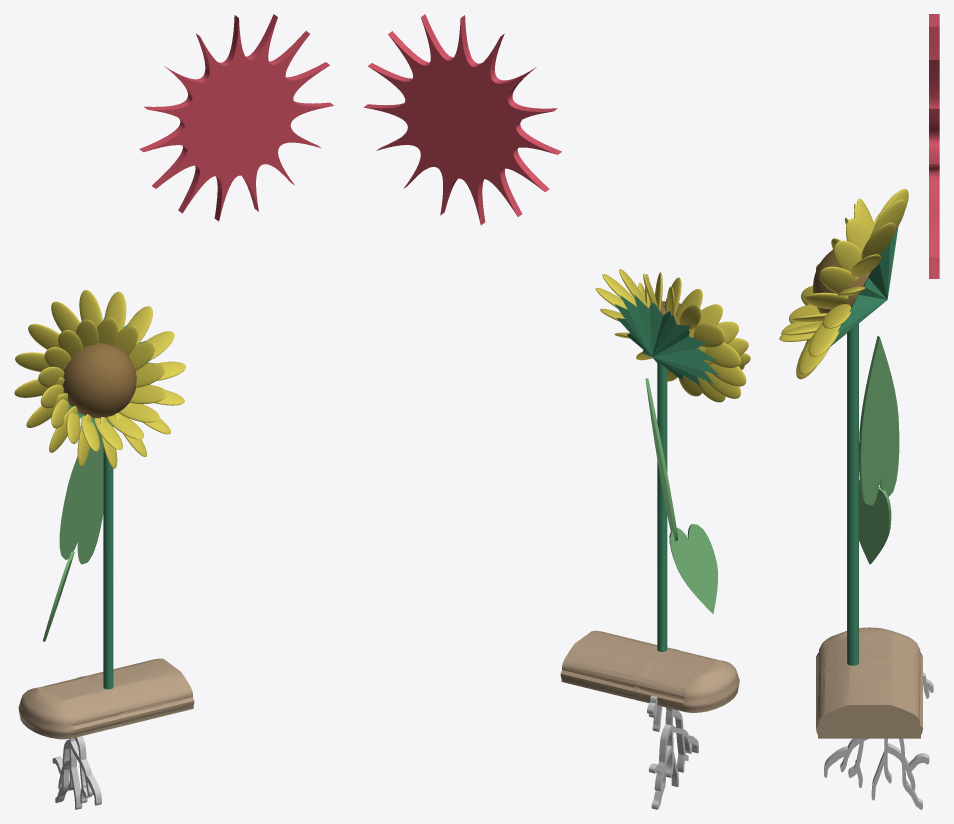
The picture shows the model from 3 angles, left to right: view 1: azimuth 30°, elevation 25°; view 2: azimuth 150°, elevation 25°; view 3: azimuth 270°, elevation 25°; orthographic projection. The views are drawn at different scales.
Visible parts, largest first — view 1: Mesh_Mesh_head_geo.001_lambert2SG.001_0; view 2: Mesh_Mesh_head_geo.001_lambert2SG.001_0; view 3: Mesh_Mesh_head_geo.001_lambert2SG.001_0.
Boxes of the visible parts, left/top/right/bottom form: Mesh_Mesh_head_geo.001_lambert2SG.001_0: left=14, top=14, right=333, bottom=809; Mesh_Mesh_head_geo.001_lambert2SG.001_0: left=363, top=14, right=750, bottom=809; Mesh_Mesh_head_geo.001_lambert2SG.001_0: left=779, top=14, right=939, bottom=809.
Size of the model in its own units: 179 by 367 by 59.84.
